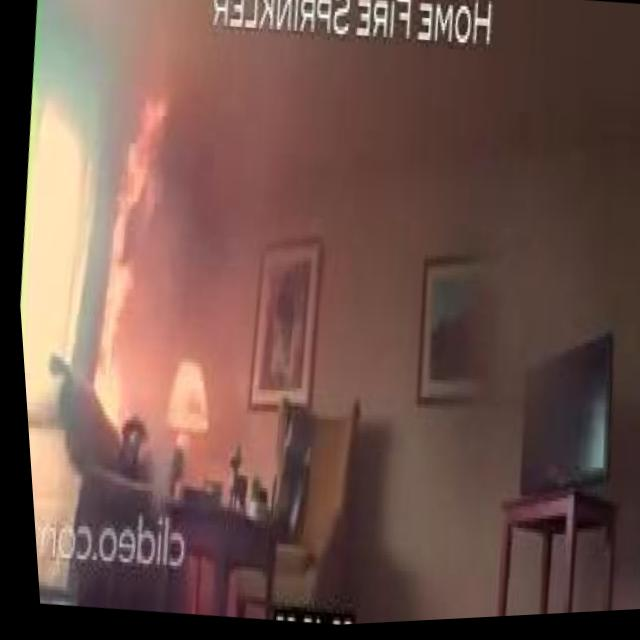fire: (67, 78, 189, 432)
